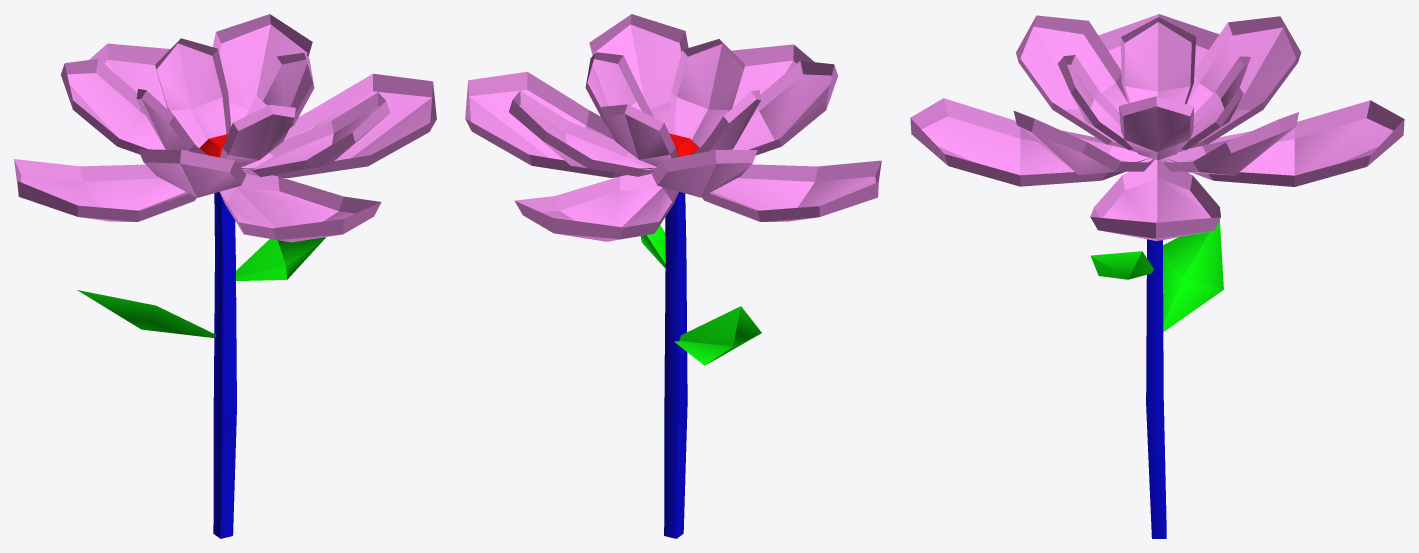
File: BigFlower.fbx
3 views of the same model, side by side, from view 1: azimuth 30°, elevation 25°; view 2: azimuth 150°, elevation 25°; view 3: azimuth 270°, elevation 25° (orthographic). The views are drawn at different scales.
Parts seen in each view (by area): view 1: BigFlower_LOD_0; view 2: BigFlower_LOD_0; view 3: BigFlower_LOD_0.
Boxes of the visible parts, x1=… form: BigFlower_LOD_0: x1=14, y1=14, x2=436, y2=538; BigFlower_LOD_0: x1=465, y1=14, x2=881, y2=538; BigFlower_LOD_0: x1=910, y1=14, x2=1404, y2=538.
Size of the model in its own units: 41.24 by 44.19 by 41.24.
